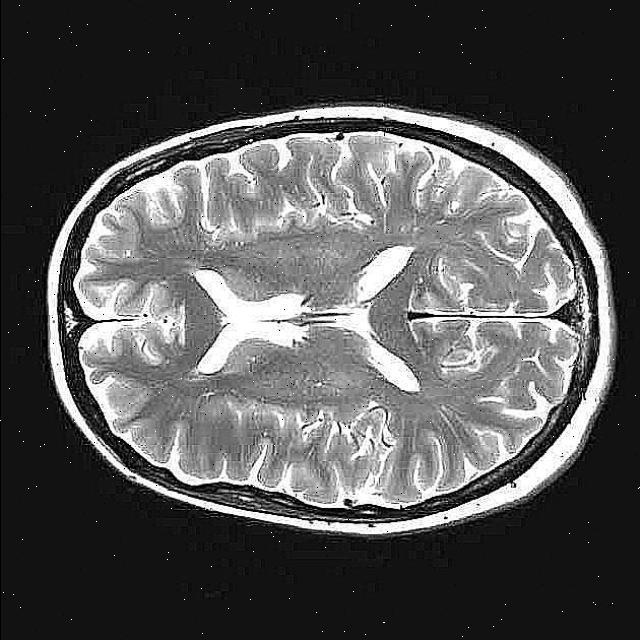No_Tumor: (48, 105, 614, 535)
